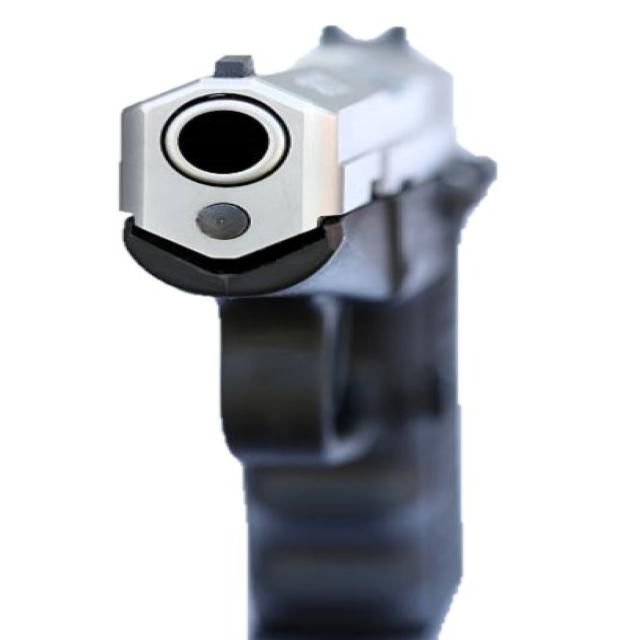pistol: (109, 15, 505, 640)
